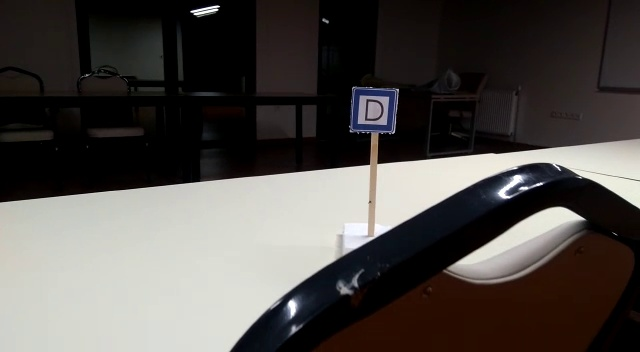durak: (349, 87, 400, 133)
